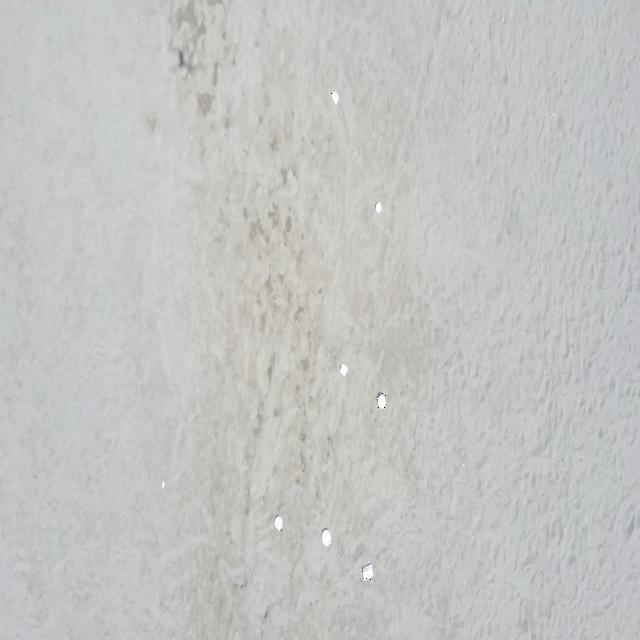take-away-containers: (362, 562, 374, 583), (321, 529, 332, 548), (377, 392, 386, 410), (331, 91, 340, 106), (340, 362, 348, 378), (275, 515, 283, 531), (375, 201, 382, 215)
